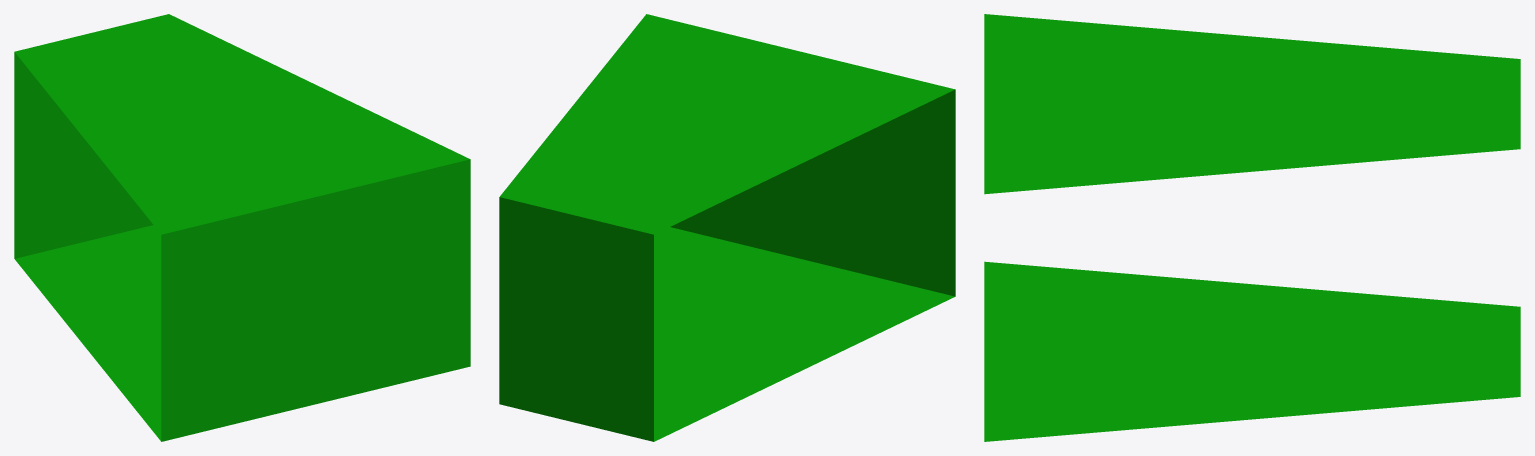
File: mapRingPart_centerPivot.fbx
The picture shows the model from 3 angles, left to right: view 1: azimuth 30°, elevation 25°; view 2: azimuth 150°, elevation 25°; view 3: azimuth 270°, elevation 25°; orthographic projection. The views are drawn at different scales.
Parts seen in each view (by area): view 1: mapPart_centerPivot; view 2: mapPart_centerPivot; view 3: mapPart_centerPivot.
Part boxes in pixels (<box>): mapPart_centerPivot: <box>14,14,470,441</box>; mapPart_centerPivot: <box>499,14,955,441</box>; mapPart_centerPivot: <box>984,14,1520,441</box>.
Bounding box in the file's own units: 0.7804 × 0.5 × 0.9808.
